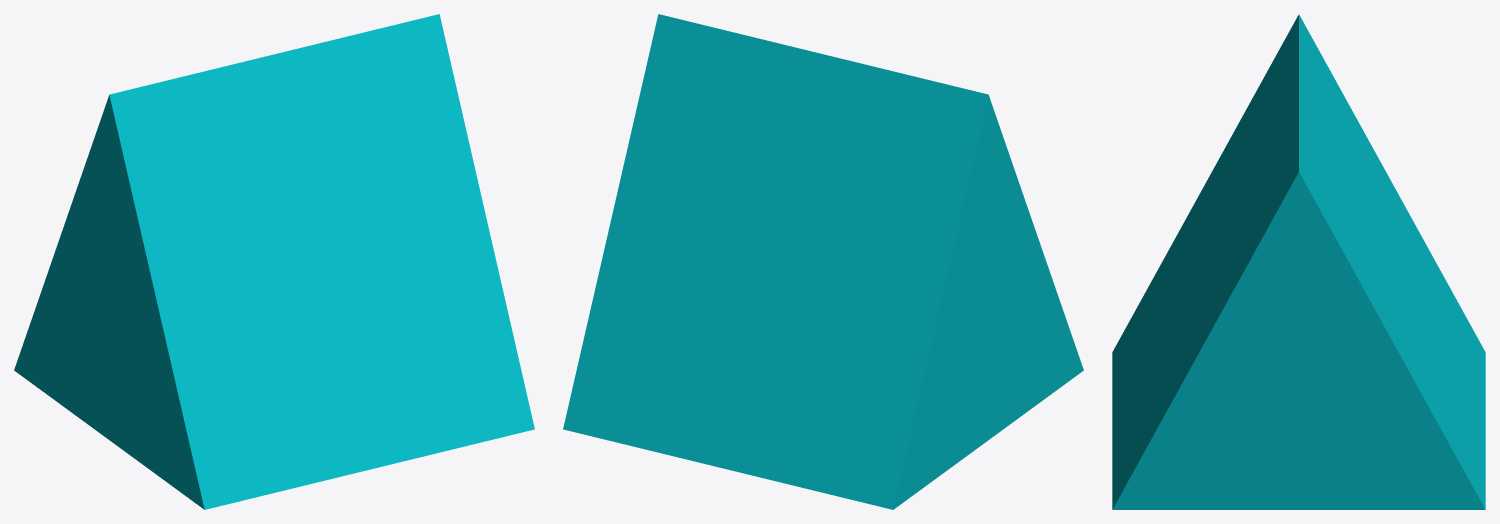
Rendered from segitiga sama sisi.fbx.
3 renders of one model, left to right at view 1: azimuth 30°, elevation 25°; view 2: azimuth 150°, elevation 25°; view 3: azimuth 270°, elevation 25°, orthographic. The views are drawn at different scales.
Parts seen in each view (by area): view 1: Cube; view 2: Cube; view 3: Cube.
Part boxes in pixels (bbox=[...]): Cube: bbox=[14, 14, 534, 509]; Cube: bbox=[563, 14, 1083, 509]; Cube: bbox=[1112, 14, 1485, 509].
Bounding box in the file's own units: 200 × 200 × 200.
